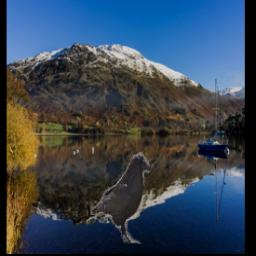Crow: (90, 153, 150, 245)
